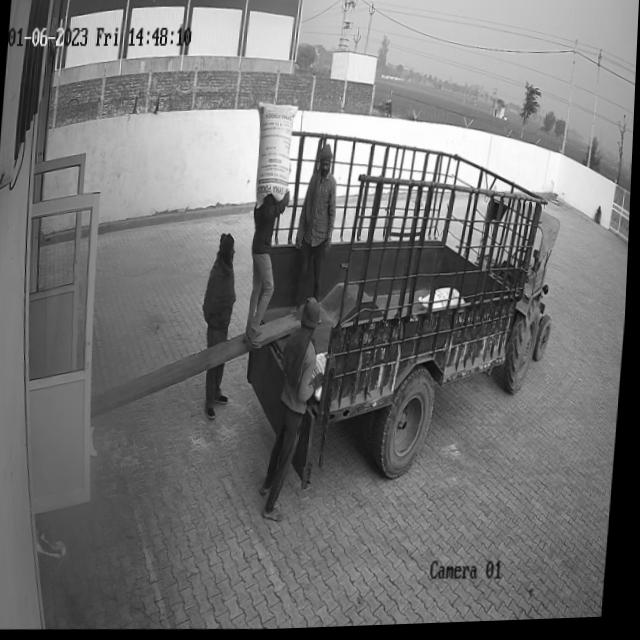sack: (251, 102, 299, 212)
